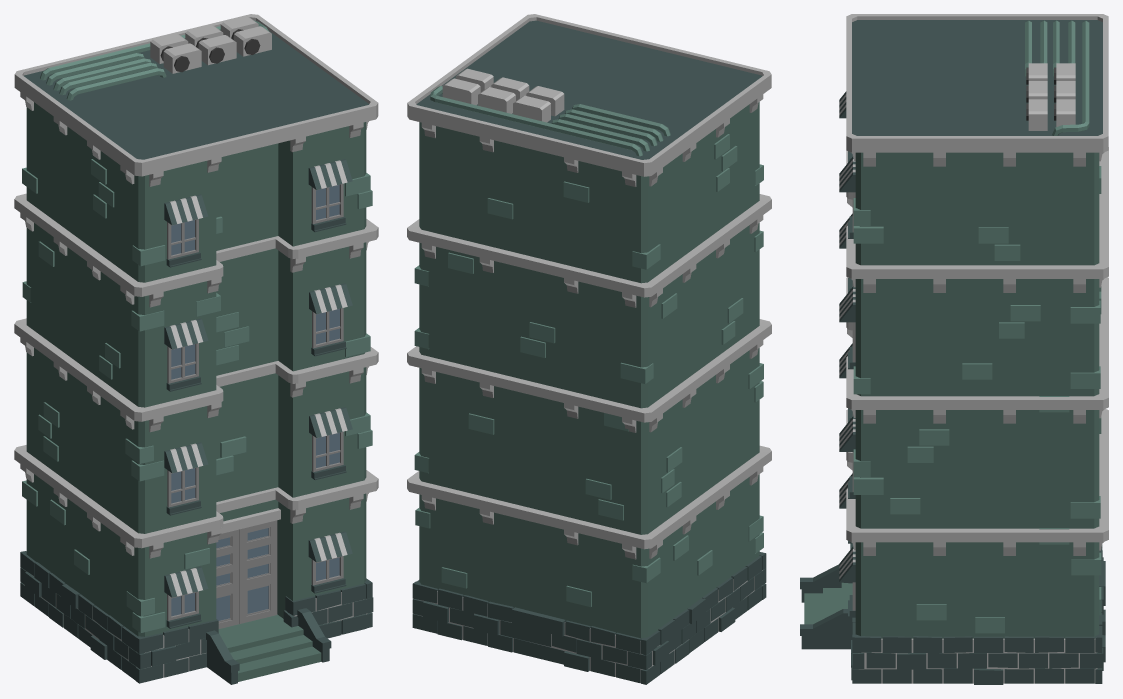
The model's file is 4Story_Center_Mat.gltf.
The picture shows the model from 3 angles, left to right: view 1: azimuth 30°, elevation 25°; view 2: azimuth 150°, elevation 25°; view 3: azimuth 270°, elevation 25°; orthographic projection. The views are drawn at different scales.
Visible parts, largest first — view 1: o 4Story_Center_Mat_Cube.021; view 2: o 4Story_Center_Mat_Cube.021; view 3: o 4Story_Center_Mat_Cube.021.
Boxes of the visible parts, bbox=[...] form: o 4Story_Center_Mat_Cube.021: bbox=[14, 14, 378, 684]; o 4Story_Center_Mat_Cube.021: bbox=[407, 14, 771, 684]; o 4Story_Center_Mat_Cube.021: bbox=[800, 14, 1108, 684].
Bounding box in the file's own units: 2.42 × 5.09 × 2.53.
